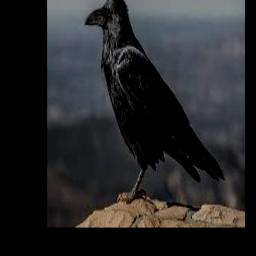Crow: (85, 0, 226, 204)
